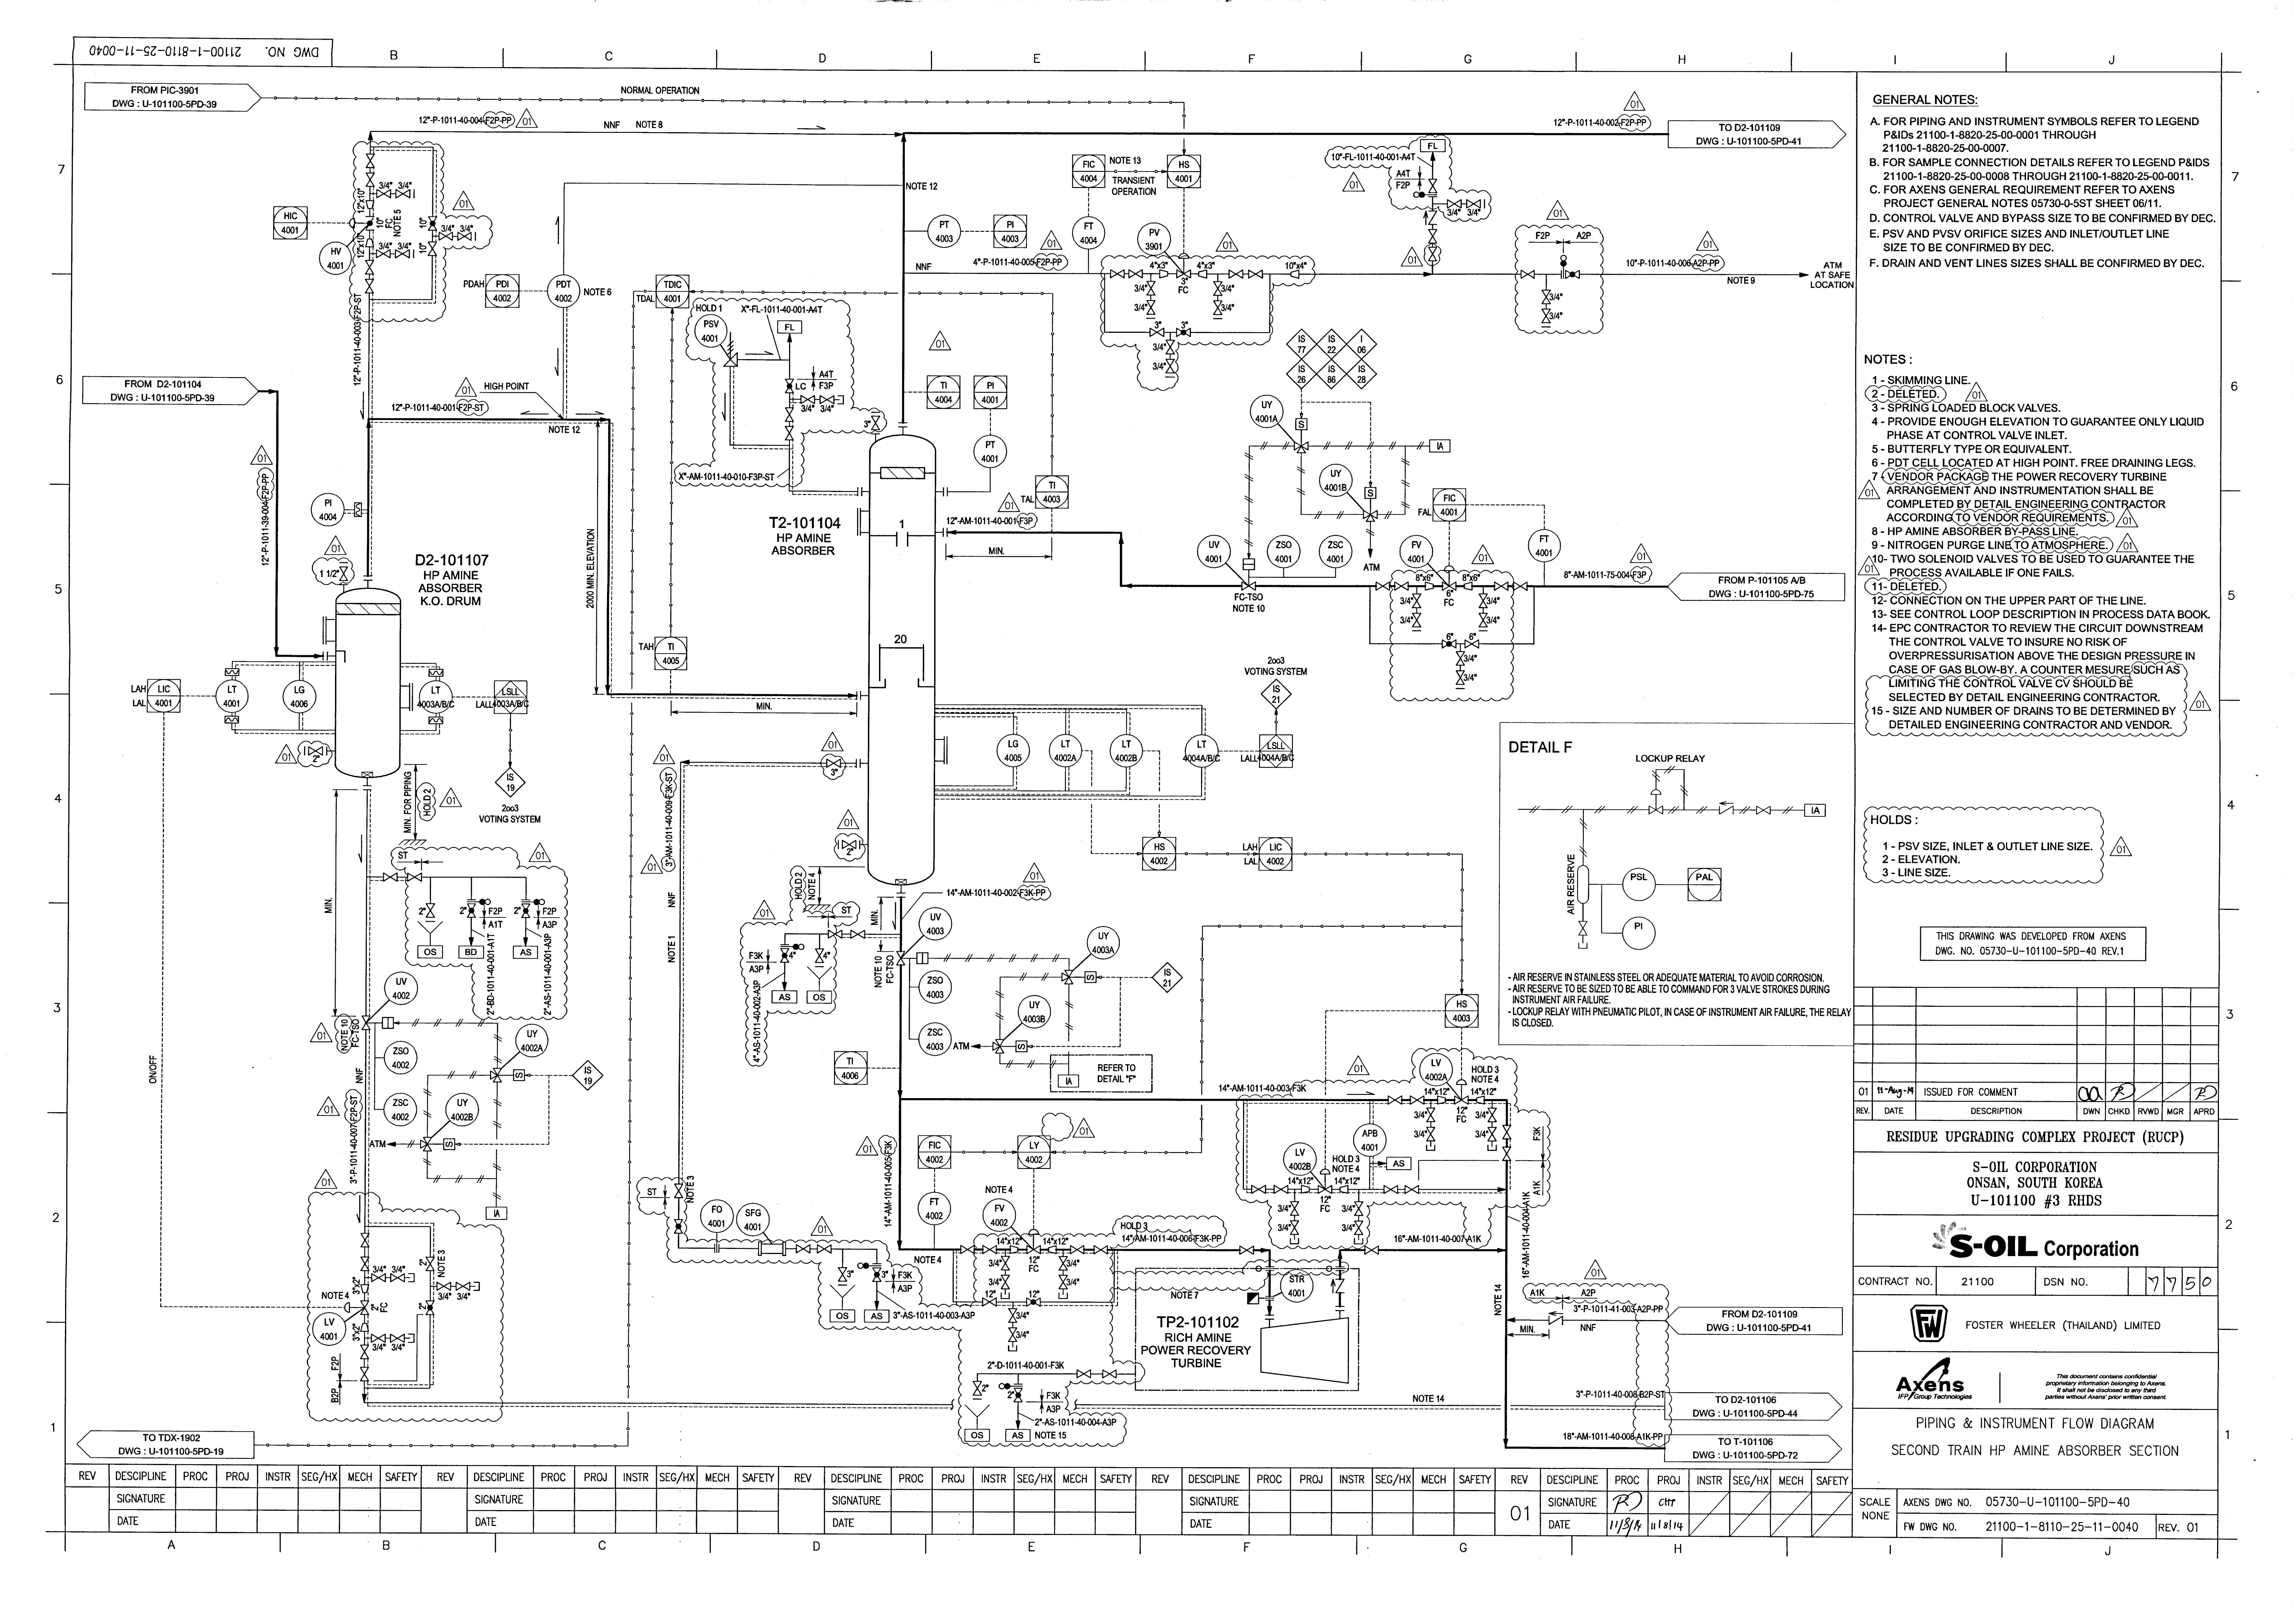NAS: (755, 1238, 788, 1257), (349, 215, 384, 233), (1245, 1291, 1277, 1305), (895, 949, 914, 967)
butterfly0: (1175, 326, 1193, 338), (1025, 1296, 1042, 1308), (1564, 270, 1581, 280), (1441, 639, 1457, 650)
butterfly90: (424, 1299, 436, 1317), (872, 1266, 883, 1284), (427, 215, 438, 231), (673, 1219, 683, 1235), (779, 947, 790, 963), (785, 378, 795, 394), (1014, 1387, 1023, 1403)
reduce0: (1436, 1094, 1448, 1105), (1424, 581, 1436, 592), (1299, 1184, 1310, 1194), (1159, 268, 1168, 278), (1009, 1245, 1019, 1254)
reduce180: (1289, 270, 1301, 280), (1338, 1184, 1350, 1194), (1462, 581, 1475, 592), (1198, 270, 1208, 280), (1047, 1245, 1058, 1256), (1475, 1094, 1485, 1105)
reduce270: (359, 1282, 370, 1294), (364, 200, 375, 210)
reduce90: (466, 902, 476, 919), (520, 902, 531, 919), (364, 236, 375, 249), (359, 1322, 370, 1334)
valvecontrol180: (343, 1299, 371, 1317)
valvecontrol90: (1440, 564, 1459, 592), (1025, 1228, 1042, 1256), (1317, 1166, 1333, 1196), (1175, 252, 1193, 278), (1648, 788, 1666, 814), (1454, 1079, 1469, 1105)
